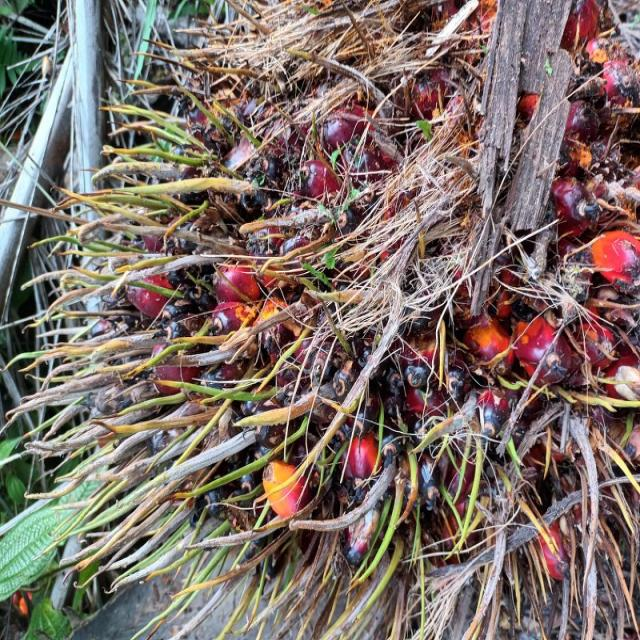fraksi 1: (3, 106, 476, 640)
